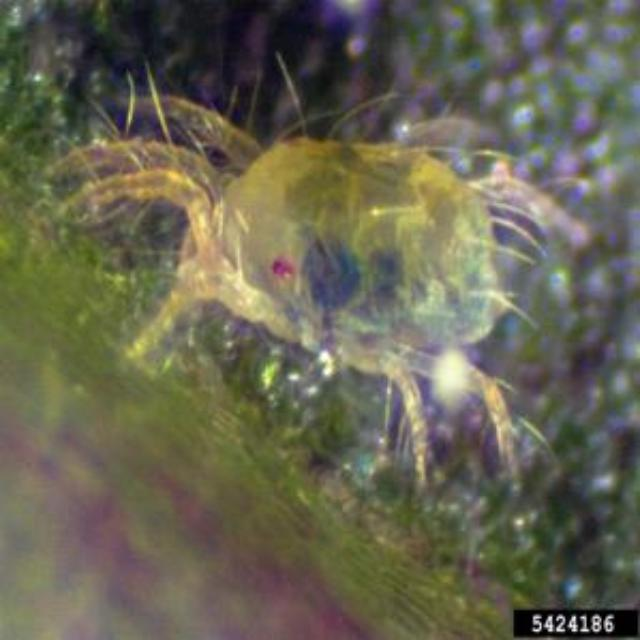spider mite: (60, 61, 592, 543)
